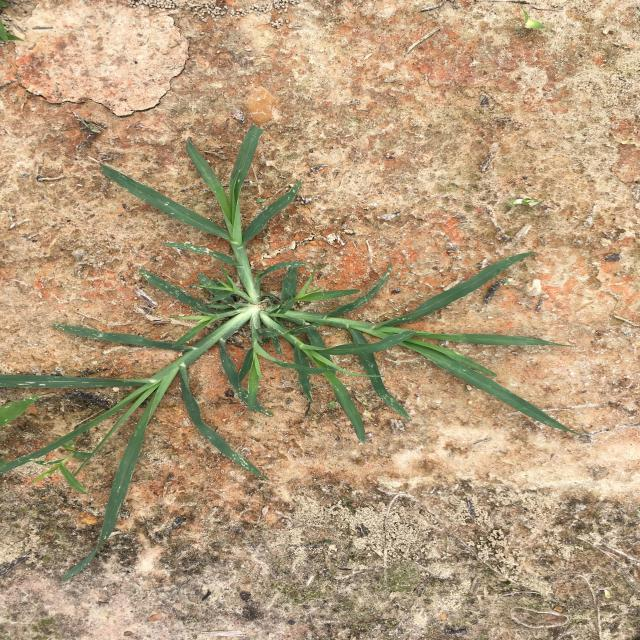Goosegrass: (0, 125, 578, 581)
